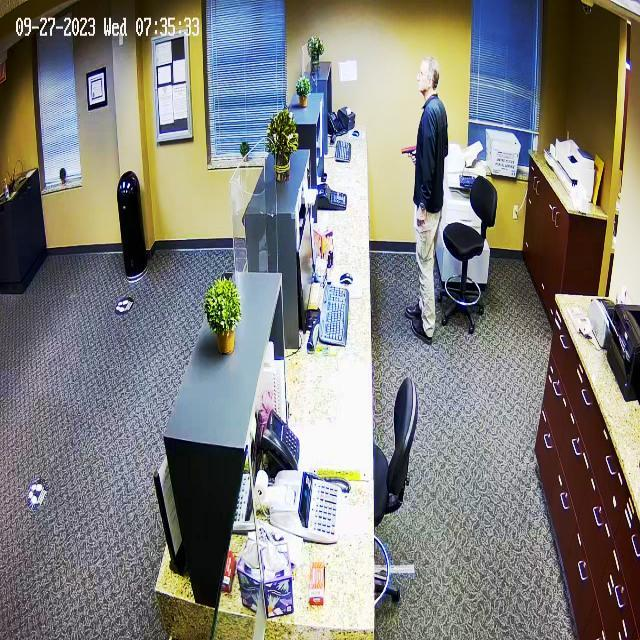Gun: (398, 138, 422, 172)
